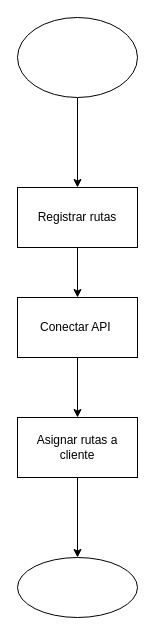
This 155x635 diagram has some shape labels left out. The centre of each missing label's shape, as x and y in pixels:
"Fin" goes at (x=77, y=587).
"Inicio" goes at (x=77, y=57).
